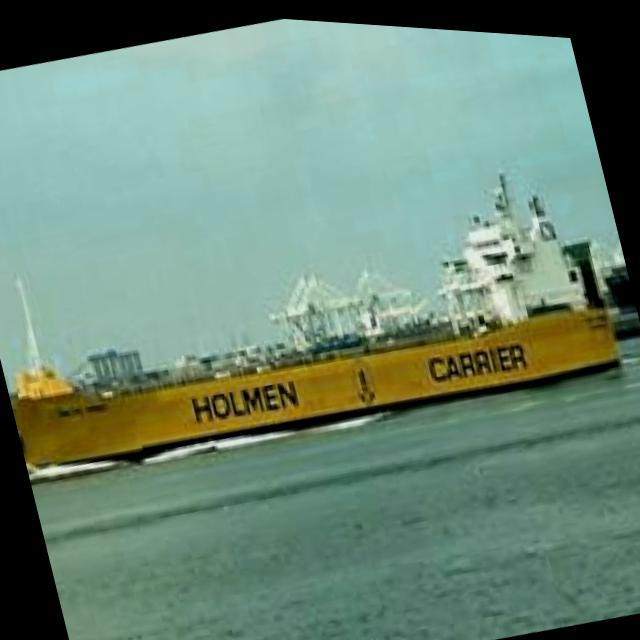ship2: (6, 159, 622, 485)
